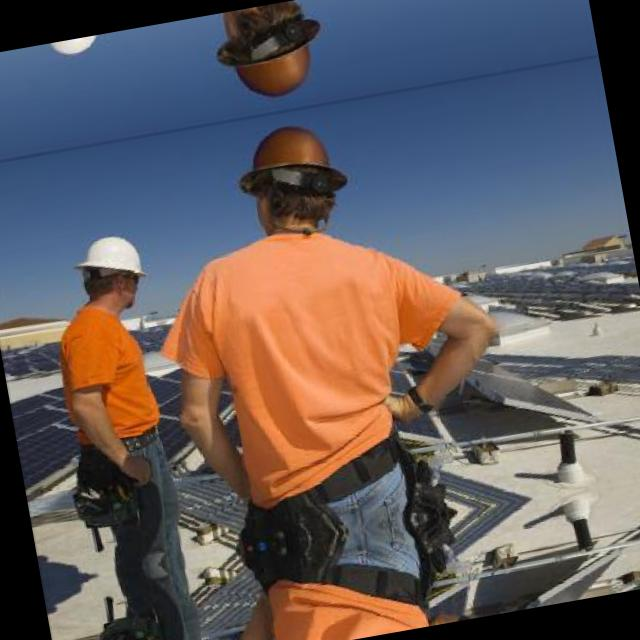helmet: (219, 107, 356, 251), (199, 0, 333, 117), (58, 215, 160, 328), (26, 32, 116, 74)
